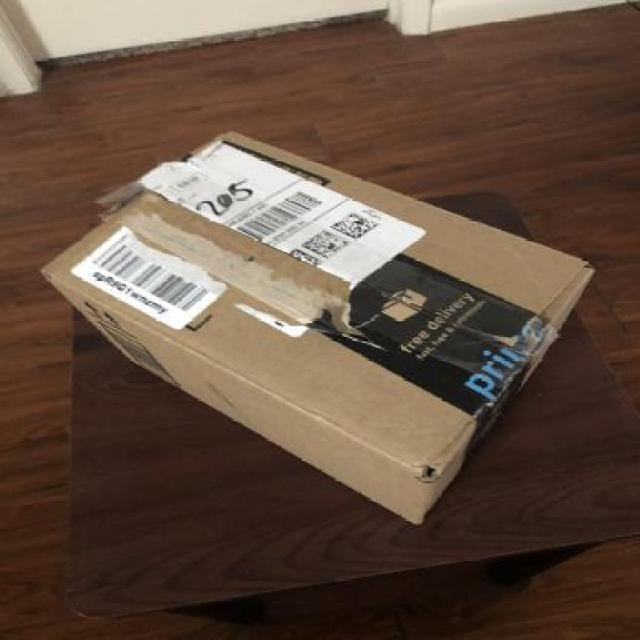obstacle: (10, 110, 618, 551)
